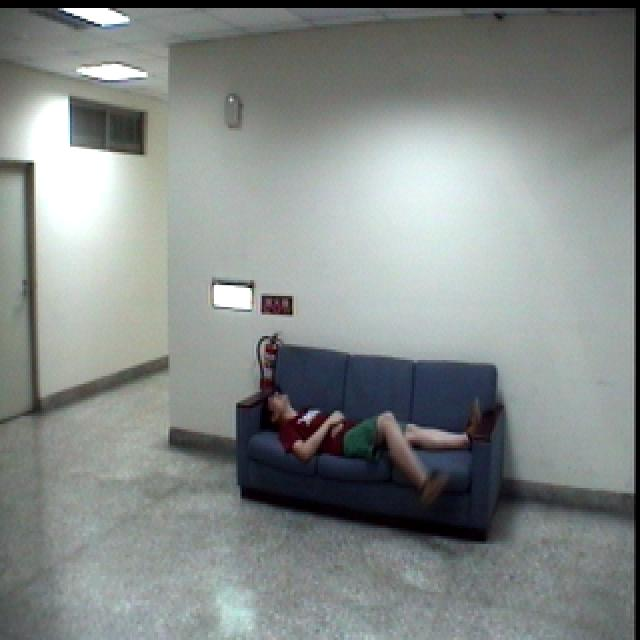lie: (256, 381, 485, 516)
